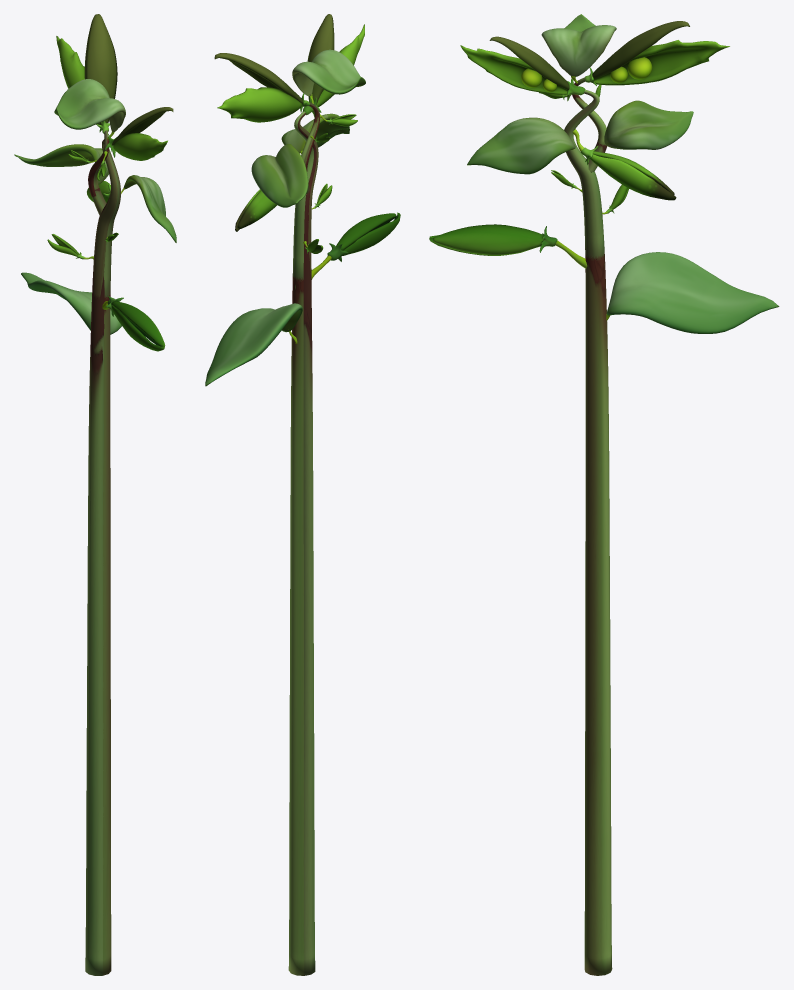
The model's file is guisante para interaz.fbx.
3 views of the same model, side by side, from view 1: azimuth 30°, elevation 25°; view 2: azimuth 150°, elevation 25°; view 3: azimuth 270°, elevation 25° (orthographic). The views are drawn at different scales.
Parts seen in each view (by area): view 1: TalloGuisantes, pelo, bigote.001, ceja2, HojaGuisante, vaina3, vainaDisparar2, vaina2, rama1, ceja1, vainaDisparar; view 2: TalloGuisantes, HojaGuisante, bigote.001, pelo, vaina2, ceja2, ceja1, vainaDisparar2, vainaDisparar, vainaPowerup, vaina3, rama1; view 3: TalloGuisantes, HojaGuisante, bigote.001, pelo, vainaDisparar2, vaina2, vaina3, tapaVaina, ceja2, ceja1.
Part boxes in pixels (bbox=[...]): TalloGuisantes: bbox=[85, 139, 120, 975]; pelo: bbox=[54, 79, 125, 132]; bigote.001: bbox=[14, 144, 176, 242]; ceja2: bbox=[84, 14, 117, 124]; HojaGuisante: bbox=[21, 272, 121, 334]; vaina3: bbox=[113, 133, 167, 160]; vainaDisparar2: bbox=[111, 301, 165, 346]; vaina2: bbox=[56, 36, 100, 124]; rama1: bbox=[88, 130, 108, 215]; ceja1: bbox=[112, 107, 173, 145]; vainaDisparar: bbox=[111, 306, 164, 351]; TalloGuisantes: bbox=[288, 111, 318, 975]; HojaGuisante: bbox=[205, 303, 302, 386]; bigote.001: bbox=[251, 113, 349, 207]; pelo: bbox=[292, 49, 365, 96]; vaina2: bbox=[217, 87, 301, 122]; ceja2: bbox=[214, 53, 303, 103]; ceja1: bbox=[307, 14, 334, 104]; vainaDisparar2: bbox=[336, 213, 396, 250]; vainaDisparar: bbox=[341, 212, 400, 256]; vainaPowerup: bbox=[237, 190, 276, 228]; vaina3: bbox=[316, 24, 364, 106]; rama1: bbox=[301, 102, 319, 193]; TalloGuisantes: bbox=[564, 89, 612, 975]; HojaGuisante: bbox=[606, 252, 779, 333]; bigote.001: bbox=[467, 100, 693, 174]; pelo: bbox=[541, 14, 616, 76]; vainaDisparar2: bbox=[433, 224, 543, 255]; vaina2: bbox=[594, 40, 729, 85]; vaina3: bbox=[460, 45, 568, 94]; tapaVaina: bbox=[589, 154, 676, 200]; ceja2: bbox=[592, 21, 689, 79]; ceja1: bbox=[489, 36, 569, 89].
Size of the model in its own units: 259 by 2381 by 780.
Materials: 9 (9 with a texture image).
